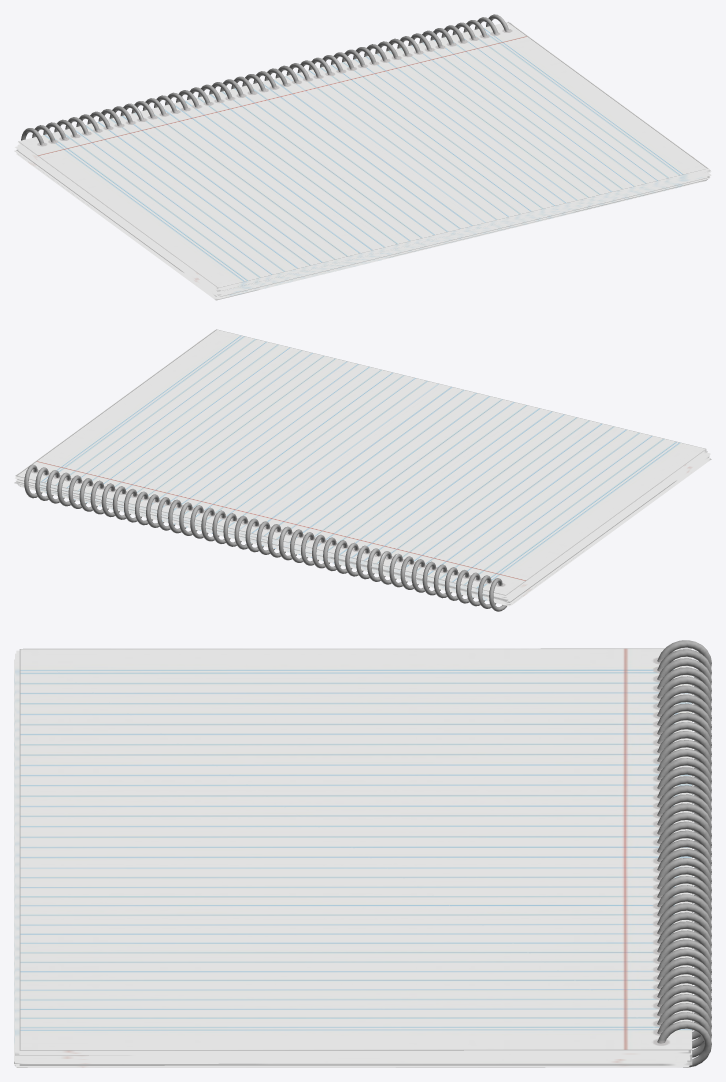
The model's file is Notepad.fbx.
3 views of the same model, one above another, from view 1: azimuth 30°, elevation 25°; view 2: azimuth 150°, elevation 25°; view 3: azimuth 270°, elevation 25° (orthographic). The views are drawn at different scales.
Visible parts, largest first — view 1: SM_notebook_papers.109, SM_spirals_main.003, SM_notebook_papers.119, SM_notebook_papers.125, SM_notebook_papers.110, SM_notebook_papers.105, SM_notebook_papers.138, SM_notebook_papers.111, SM_notebook_papers.121, SM_notebook_papers.118, SM_notebook_papers.115, SM_notebook_papers.117 (+4 smaller); view 2: SM_notebook_papers.109, SM_spirals_main.003, SM_notebook_papers.117, SM_notebook_papers.119, SM_notebook_papers.112, SM_notebook_papers.127, SM_notebook_papers.131, SM_notebook_papers.126, SM_notebook_papers.106, SM_notebook_papers.107, SM_notebook_papers.137, SM_notebook_papers.108 (+3 smaller); view 3: SM_notebook_papers.109, SM_spirals_main.003, SM_notebook_papers.110, SM_notebook_papers.115, SM_notebook_papers.118, SM_notebook_papers.134, SM_notebook_papers.111, SM_notebook_papers.120, SM_notebook_papers.106, SM_notebook_papers.108, SM_notebook_papers.129, SM_notebook_papers.136 (+4 smaller).
Part boxes in pixels (bbox=[...]): SM_notebook_papers.109: bbox=[18, 22, 707, 287]; SM_spirals_main.003: bbox=[21, 14, 509, 145]; SM_notebook_papers.119: bbox=[15, 146, 704, 293]; SM_notebook_papers.125: bbox=[18, 150, 707, 296]; SM_notebook_papers.110: bbox=[27, 148, 709, 289]; SM_notebook_papers.105: bbox=[16, 153, 705, 300]; SM_notebook_papers.138: bbox=[217, 178, 708, 298]; SM_notebook_papers.111: bbox=[220, 170, 710, 290]; SM_notebook_papers.121: bbox=[216, 173, 706, 294]; SM_notebook_papers.118: bbox=[220, 173, 710, 294]; SM_notebook_papers.115: bbox=[220, 171, 710, 291]; SM_notebook_papers.117: bbox=[18, 144, 220, 291]; SM_notebook_papers.109: bbox=[16, 329, 706, 595]; SM_spirals_main.003: bbox=[24, 464, 506, 611]; SM_notebook_papers.117: bbox=[18, 451, 707, 597]; SM_notebook_papers.119: bbox=[508, 453, 710, 599]; SM_notebook_papers.112: bbox=[17, 453, 706, 599]; SM_notebook_papers.127: bbox=[19, 456, 709, 602]; SM_notebook_papers.131: bbox=[20, 457, 710, 604]; SM_notebook_papers.126: bbox=[17, 480, 508, 600]; SM_notebook_papers.106: bbox=[15, 329, 505, 595]; SM_notebook_papers.107: bbox=[17, 450, 706, 596]; SM_notebook_papers.137: bbox=[19, 486, 510, 606]; SM_notebook_papers.108: bbox=[15, 476, 505, 596]; SM_notebook_papers.109: bbox=[19, 648, 691, 1050]; SM_spirals_main.003: bbox=[657, 640, 711, 1067]; SM_notebook_papers.110: bbox=[16, 650, 688, 1052]; SM_notebook_papers.115: bbox=[17, 1055, 689, 1058]; SM_notebook_papers.118: bbox=[14, 659, 686, 1061]; SM_notebook_papers.134: bbox=[19, 1056, 692, 1065]; SM_notebook_papers.111: bbox=[15, 653, 686, 1055]; SM_notebook_papers.120: bbox=[15, 1061, 687, 1063]; SM_notebook_papers.106: bbox=[18, 1050, 690, 1053]; SM_notebook_papers.108: bbox=[19, 1052, 691, 1054]; SM_notebook_papers.129: bbox=[17, 1064, 689, 1066]; SM_notebook_papers.136: bbox=[16, 1066, 687, 1067].
Bounding box in the file's own units: 30.08 × 1.72 × 21.8.
1 material, 1 textured.
